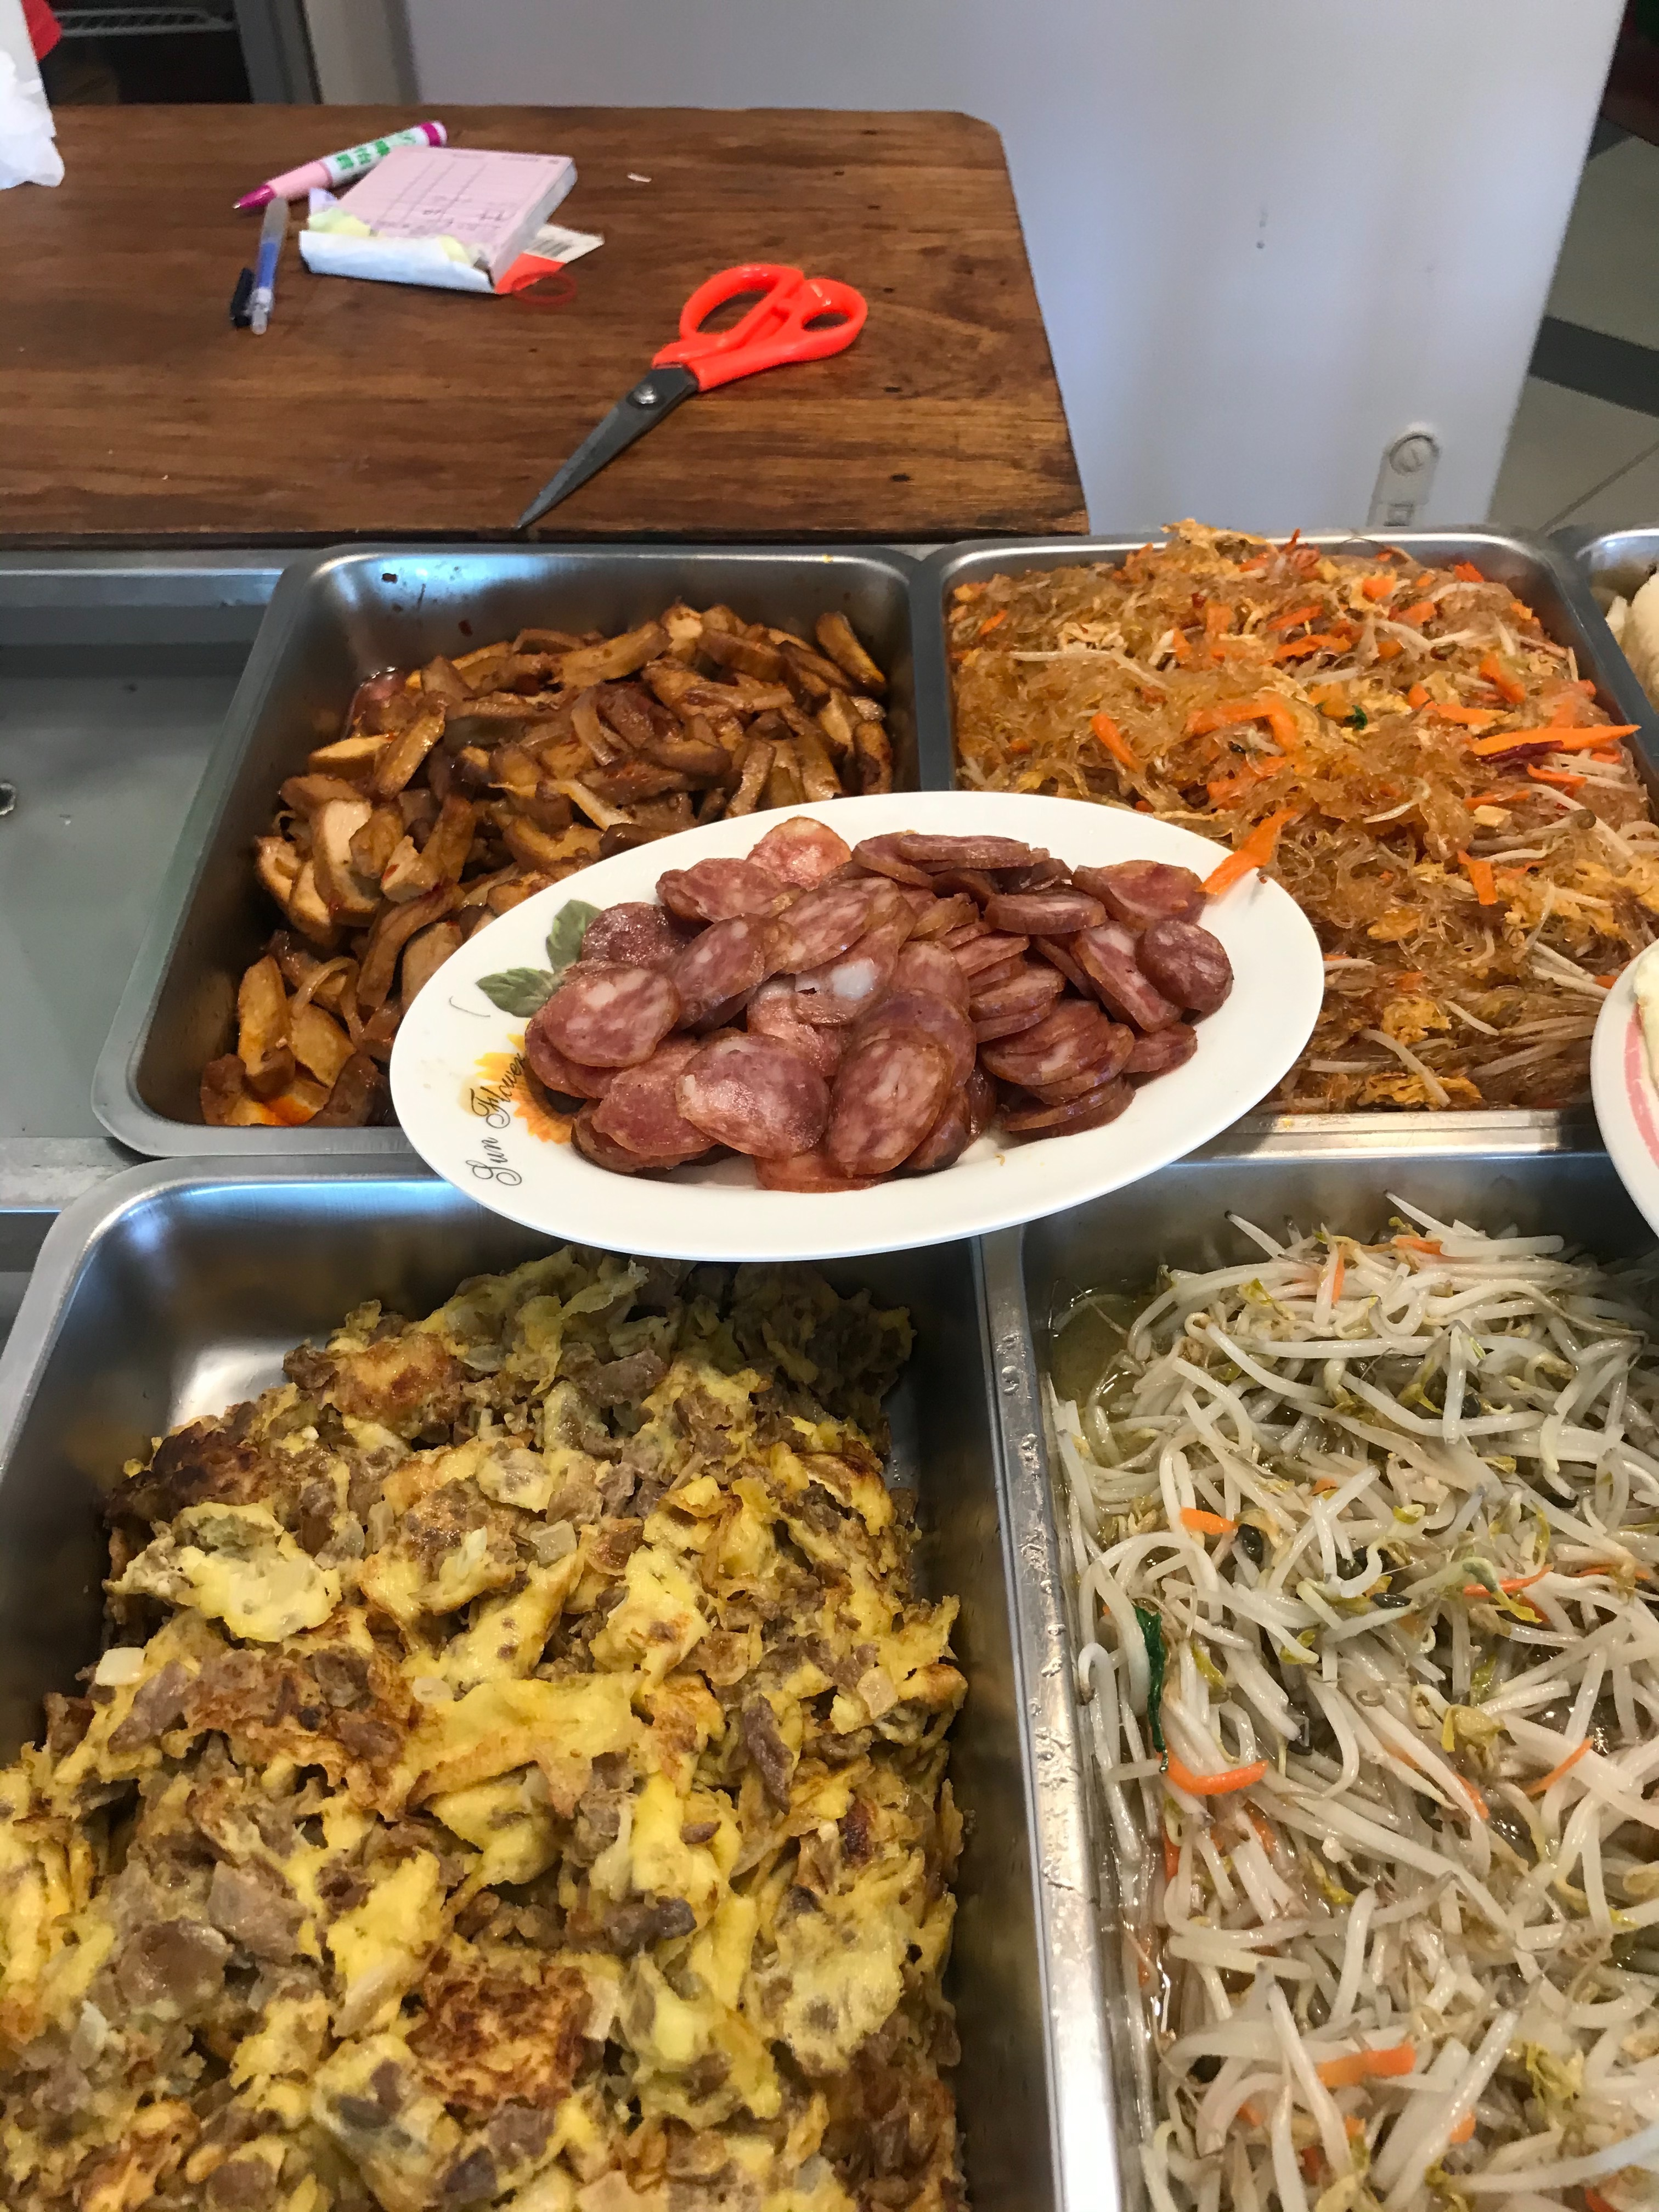chinese_sausage: (558, 873, 1169, 1136)
mung_bean_sprouts: (1112, 1235, 1659, 2212)
